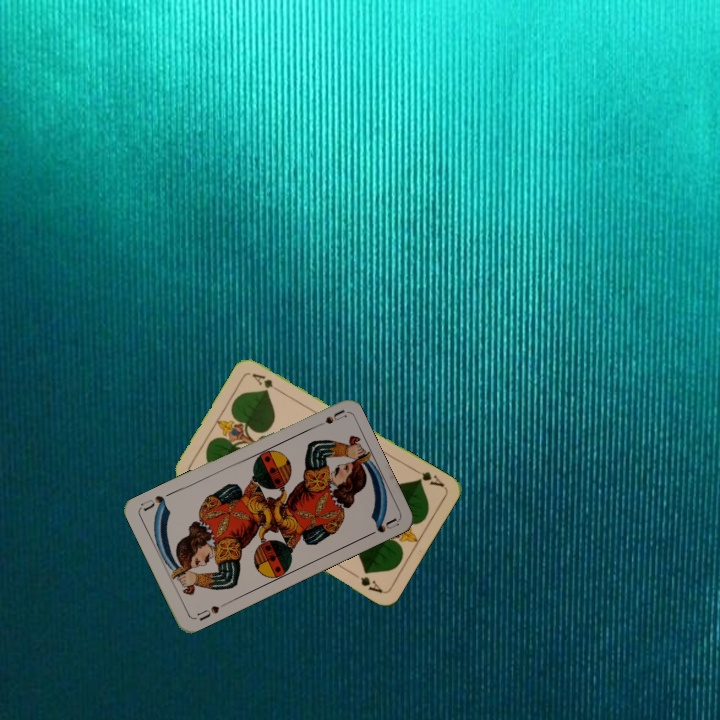GA: (410, 464, 447, 490)
SU: (308, 406, 348, 431), (190, 599, 229, 624)
